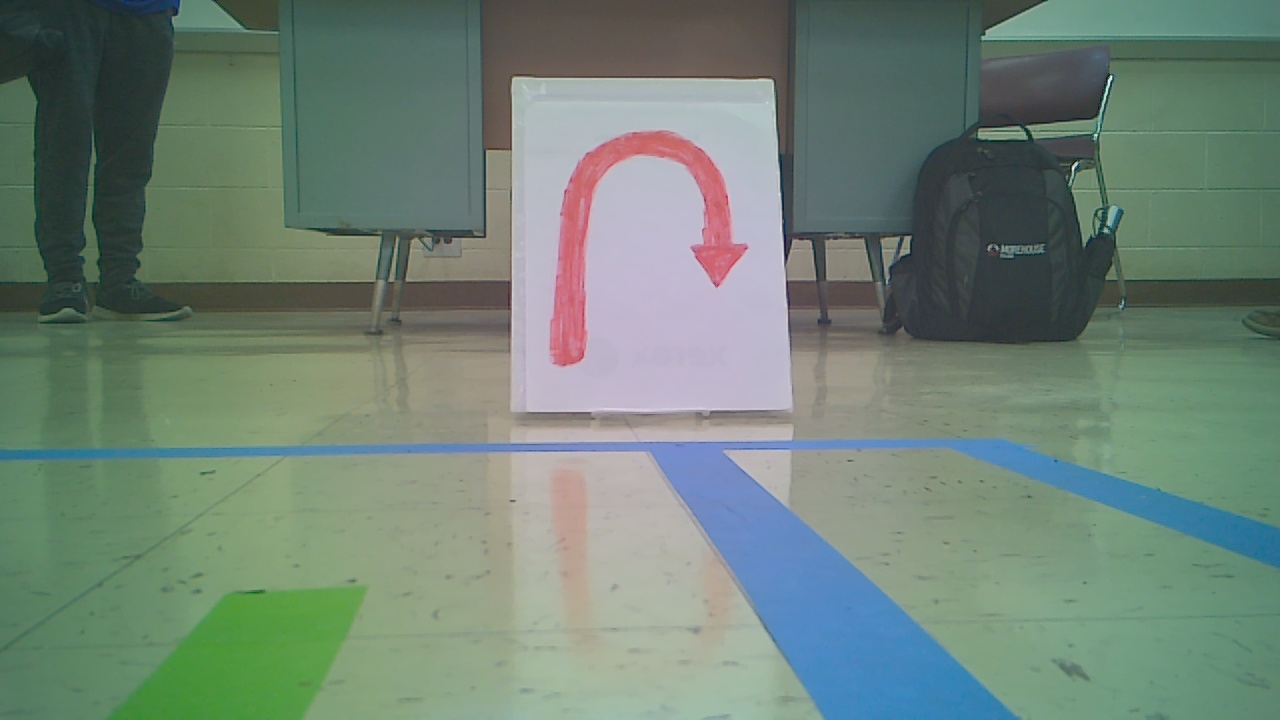greenline: (119, 583, 369, 717)
uturn: (547, 126, 749, 367)
